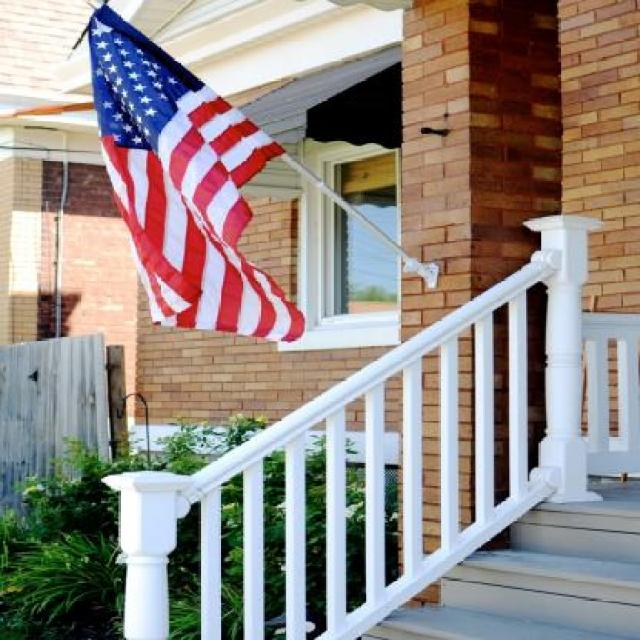stair: (361, 480, 640, 640)
